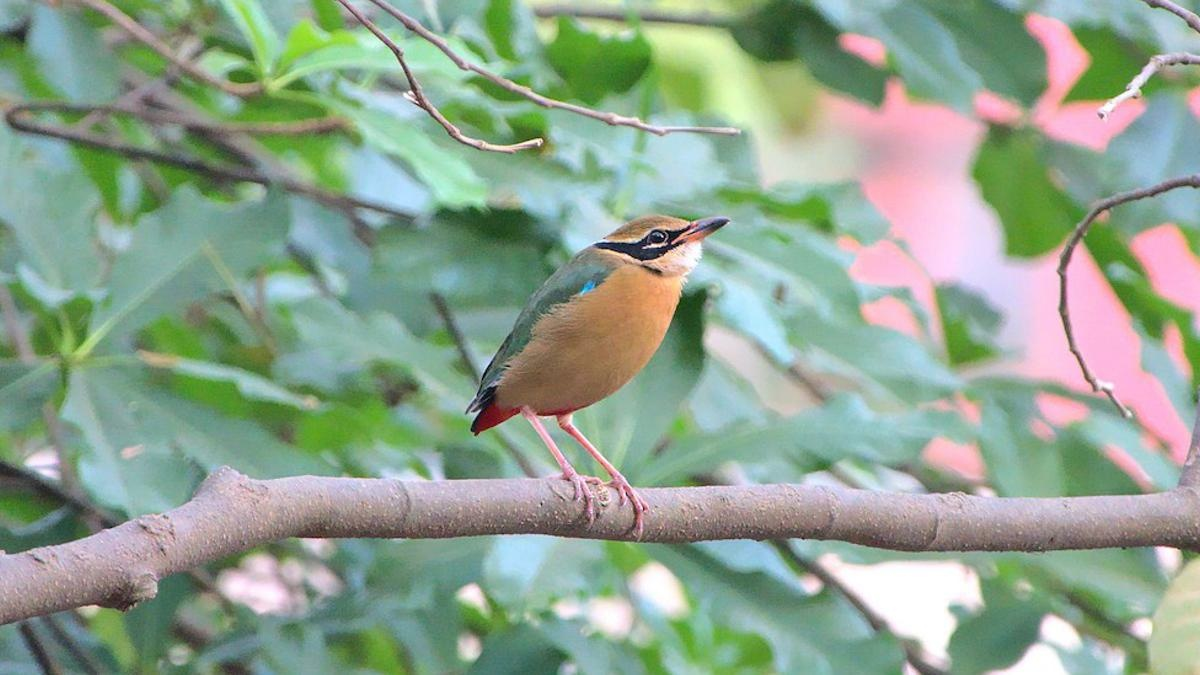pitta: (436, 171, 777, 538)
